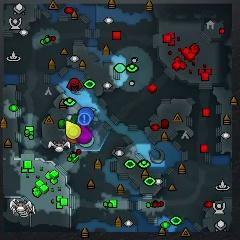Other: (78, 113, 92, 125)
p1: (78, 107, 94, 126)
p2: (80, 136, 94, 147)
p3: (76, 125, 91, 144)
p4: (65, 120, 80, 139)
p5: (68, 138, 77, 144)
x4: (71, 114, 78, 124)
